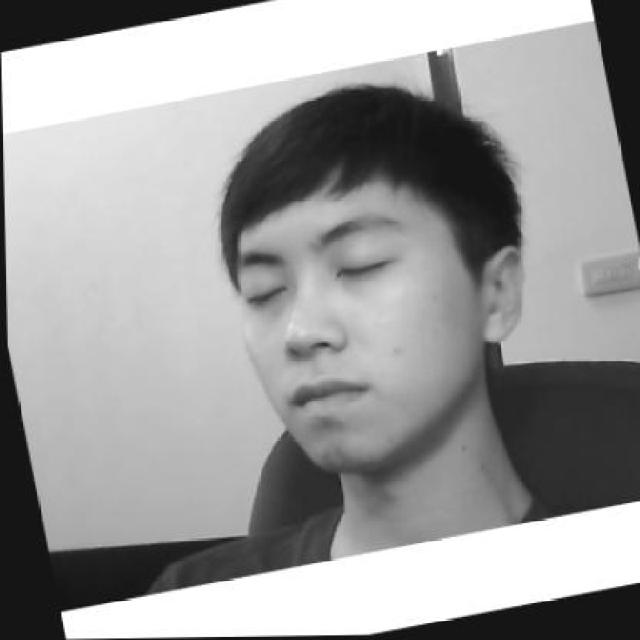inattentif: (190, 57, 553, 489)
